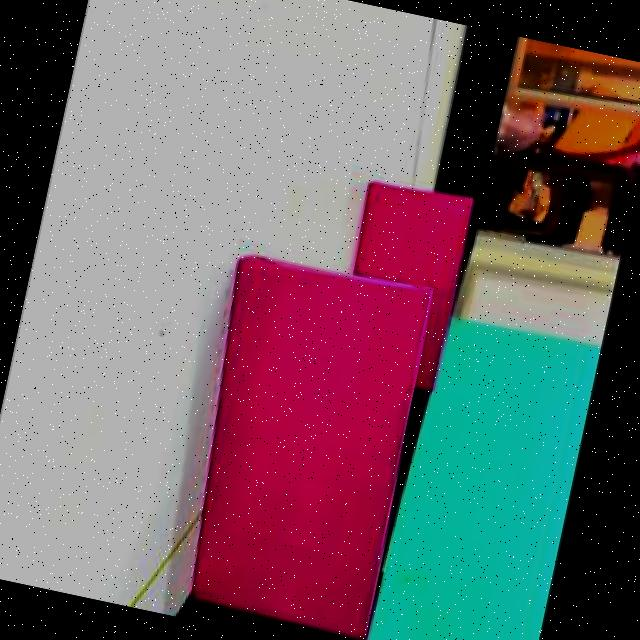xparking: (165, 257, 429, 629), (349, 179, 472, 293)
